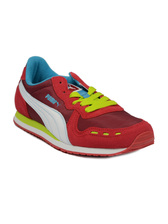shoes: (7, 54, 158, 157)
